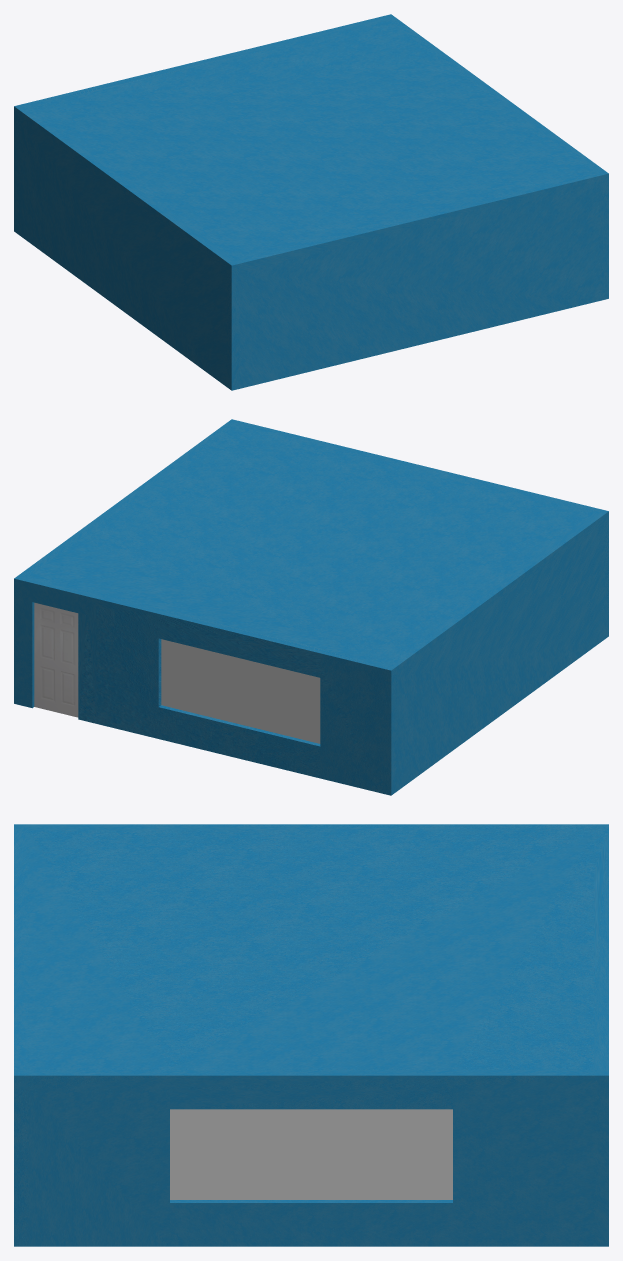
Rendered from Room.fbx.
3 views of the same model, one above another, from view 1: azimuth 30°, elevation 25°; view 2: azimuth 150°, elevation 25°; view 3: azimuth 270°, elevation 25° (orthographic). The views are drawn at different scales.
Visible parts, largest first — view 1: Room; view 2: Room, FrontWindow, Door; view 3: Room, SideWindow.
Boxes of the visible parts, left/top/right/bottom form: Room: left=14, top=14, right=608, bottom=390; Room: left=14, top=419, right=608, bottom=795; FrontWindow: left=161, top=639, right=320, bottom=743; Door: left=34, top=602, right=78, bottom=717; Room: left=14, top=824, right=608, bottom=1246; SideWindow: left=170, top=1109, right=452, bottom=1199.
Bounding box in the file's own units: 1025 × 325 × 1025.
4 materials, 3 textured.
